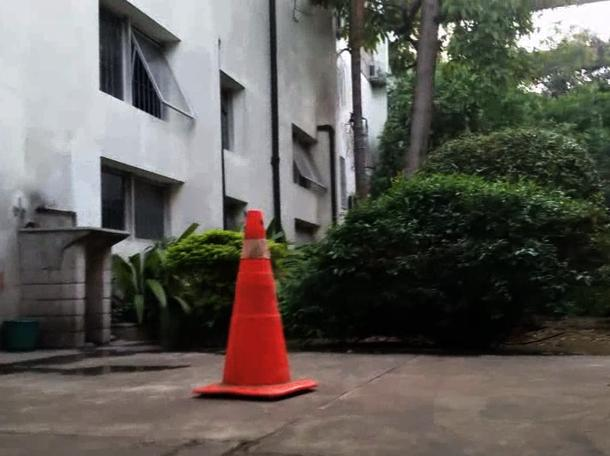0 cone: (192, 209, 318, 402)
